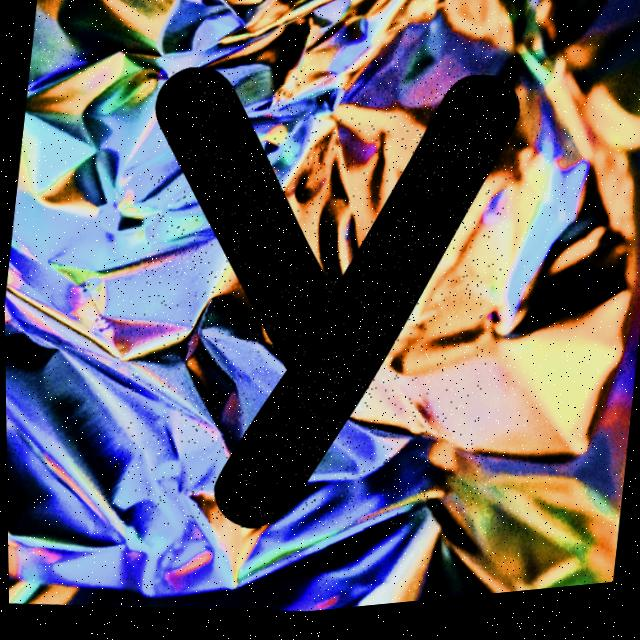Y: (155, 72, 518, 531)
